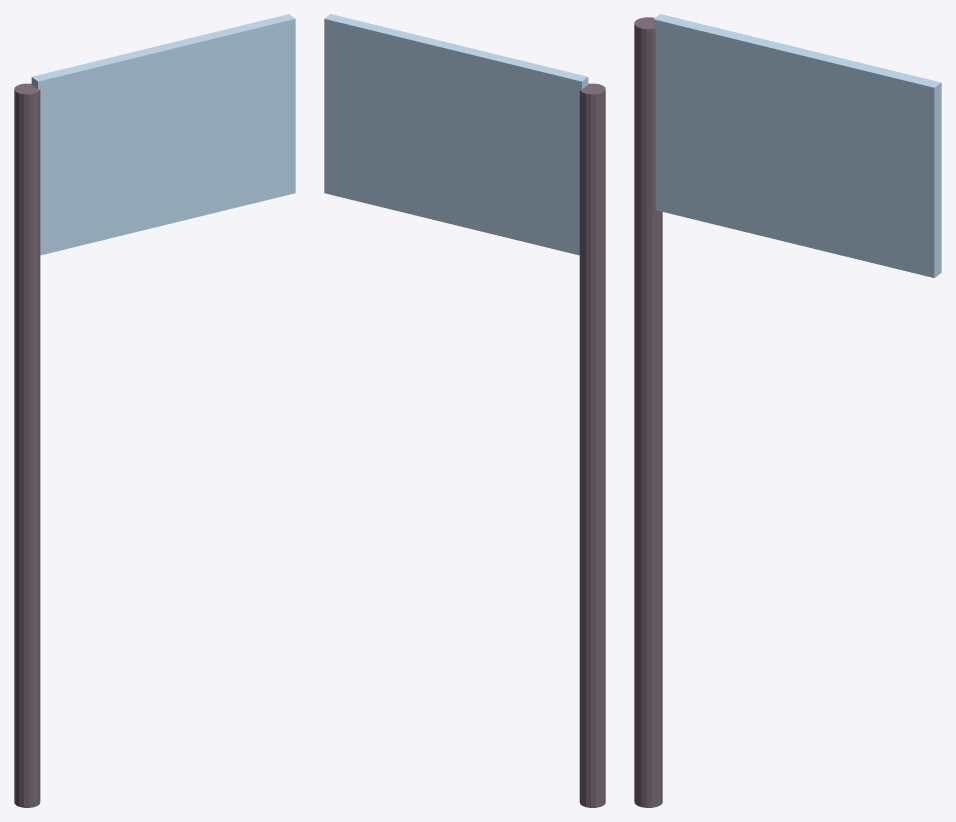
Rendered from Flag.glb.
3 renders of one model, left to right at view 1: azimuth 30°, elevation 25°; view 2: azimuth 150°, elevation 25°; view 3: azimuth 330°, elevation 25°, orthographic. The views are drawn at different scales.
Visible parts, largest first — view 1: Flag_1, Flag_0; view 2: Flag_1, Flag_0; view 3: Flag_1, Flag_0.
Boxes of the visible parts, left/top/right/bottom form: Flag_1: left=31, top=14, right=295, bottom=255; Flag_0: left=14, top=83, right=40, bottom=807; Flag_1: left=324, top=14, right=588, bottom=255; Flag_0: left=579, top=83, right=605, bottom=807; Flag_1: left=653, top=14, right=941, bottom=277; Flag_0: left=634, top=17, right=662, bottom=807.
Bounding box in the file's own units: 3.65 × 9.1 × 0.3.
